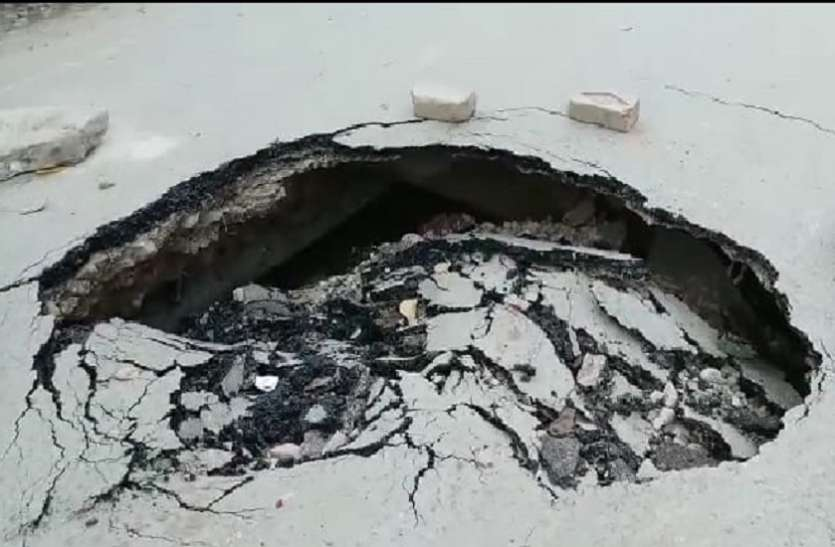roadCrash: (435, 263, 713, 457), (85, 333, 334, 452)
